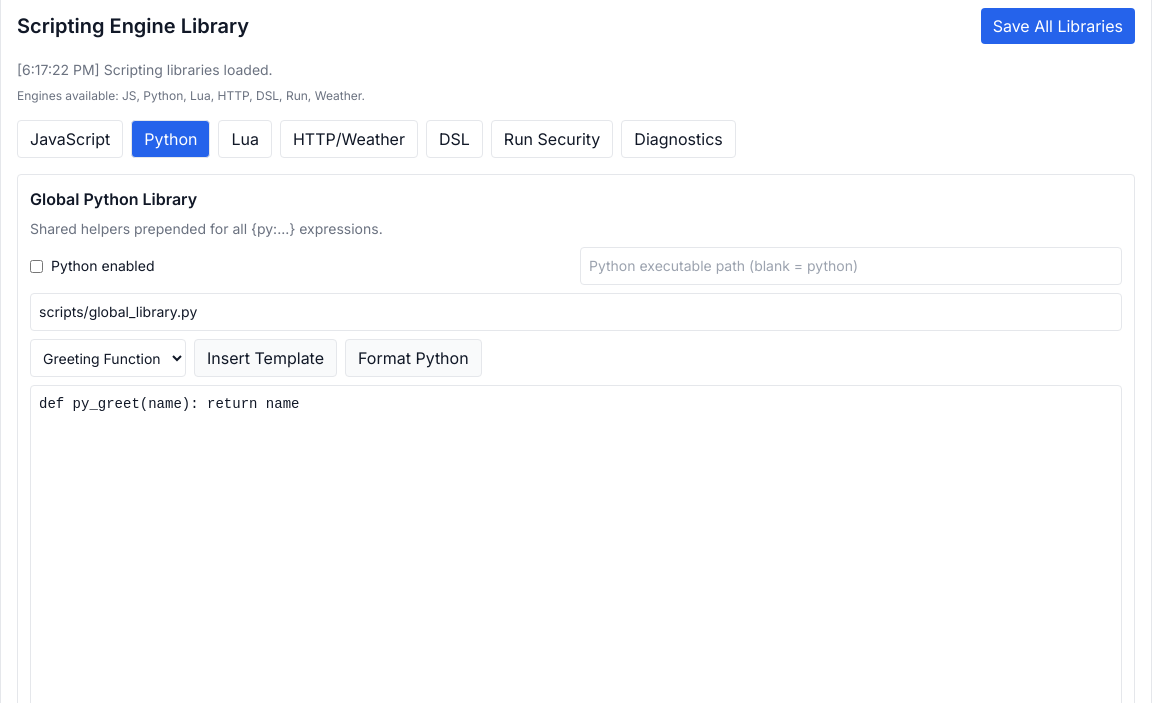
Test case: ScriptTab sub-tabs › shows TOFU-only audit history in diagnostics sub-tab
Expected: the heading "Scripting Engine Library" is shown, 17,12 -> 249,40
Click the button "Diagnostics". click: (678, 139)
box: 621,120 -> 736,158
(page scrolled)
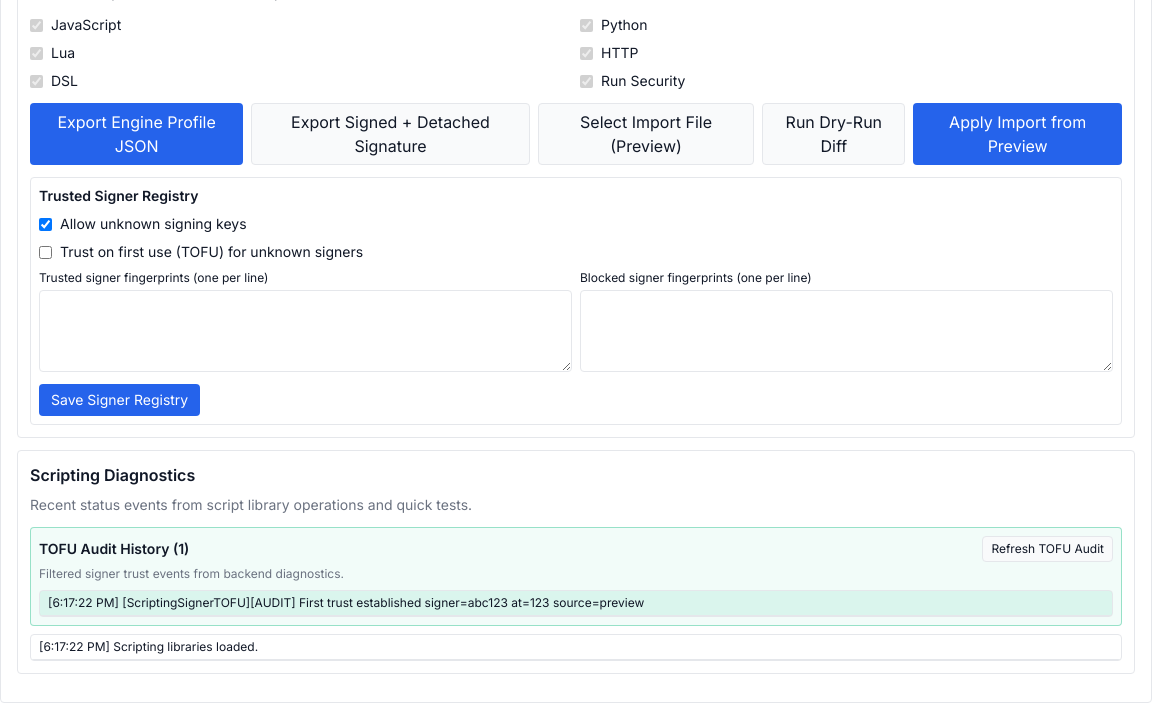
Result: the heading "TOFU Audit History (1)" is shown at 39,539 -> 189,559
Result: the text "First trust established signer=abc123" is shown at 48,595 -> 644,610
